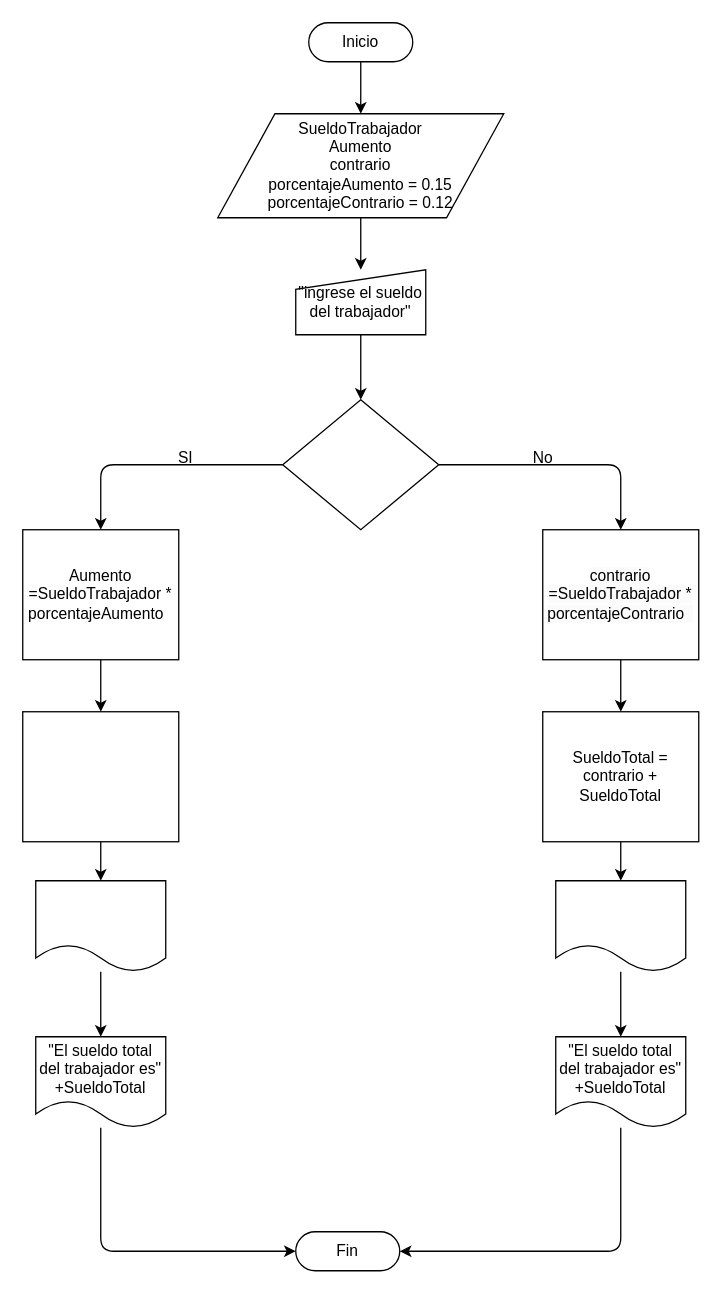
The diagram is 722 pixels wide and 1294 high, and some of its shapes have lost their labels. Here are the shapes that lost their labels. From the top down, the box of each, then its label:
(281, 398, 439, 530): SueldoTrabajdor < 40000
(21, 710, 179, 842): SueldoTotal = Aumento + SueldoTotal
(34, 879, 166, 972): "El aumento del trabajador es" +aumento
(554, 879, 686, 972): "El aumento del trabajador es" +contrario
